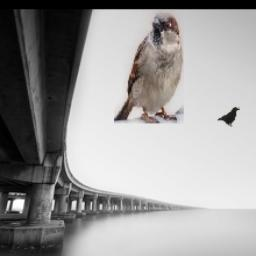Crow: (218, 106, 241, 126)
Sparrow: (114, 10, 184, 123)
